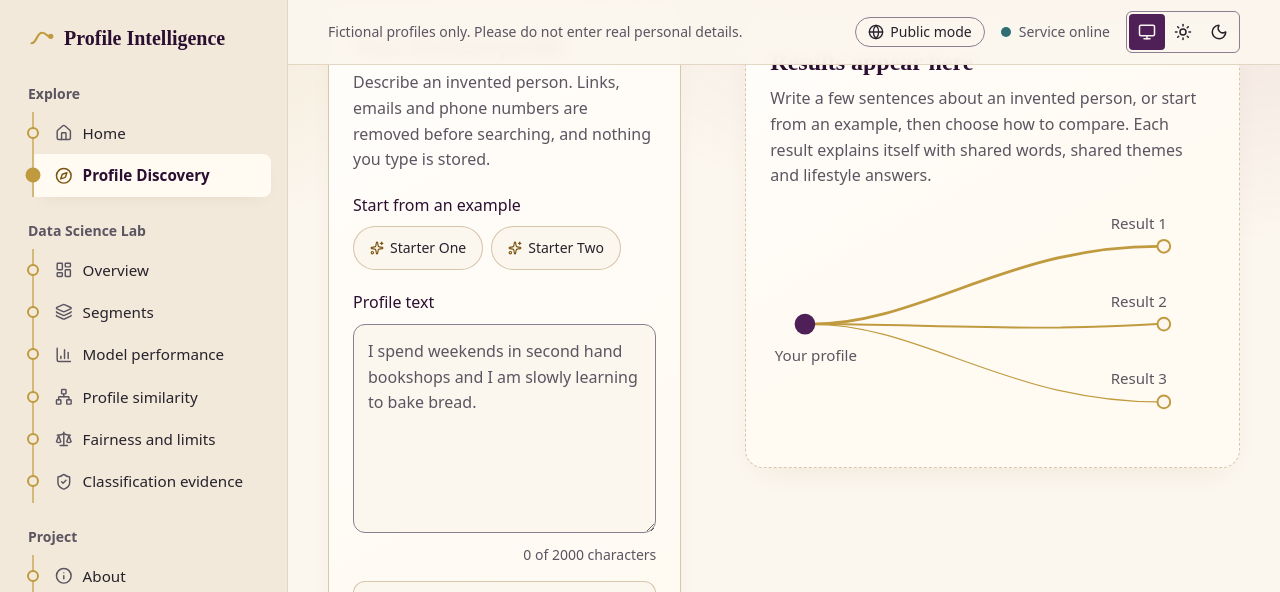
Discover page: searching › reports what was removed before searching
(page scrolled)
In the text box labelled "Profile text": (505, 428) [353, 324, 656, 533], type "I spend weekends in old bookshops and drink far too much tea."
(page scrolled)
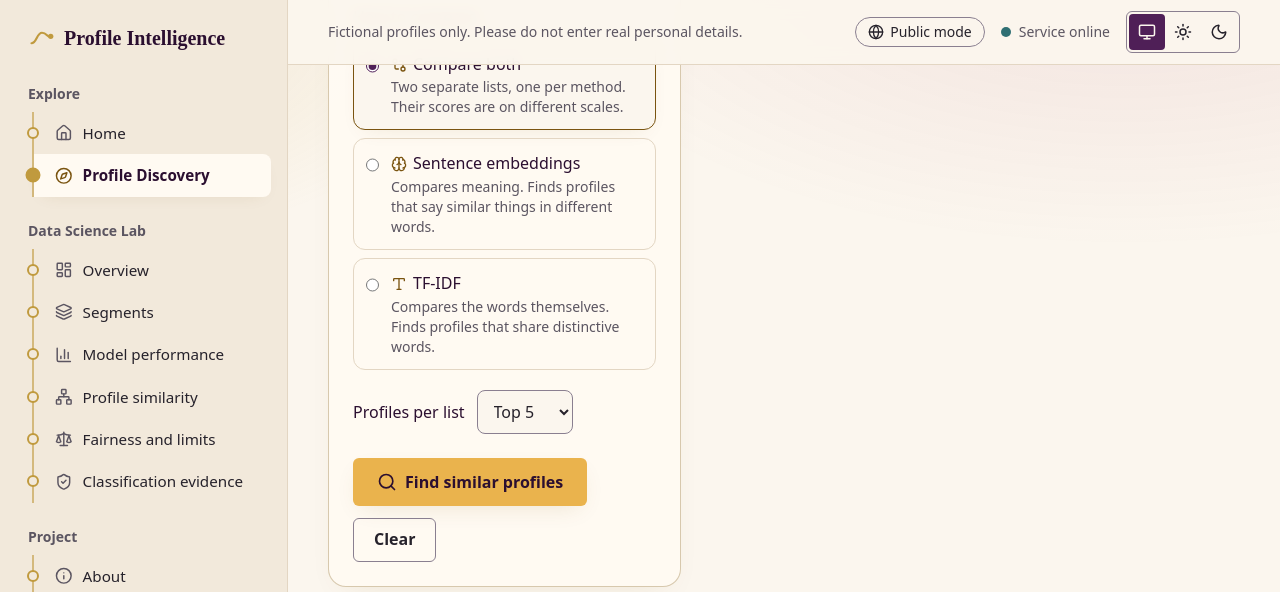
Click the button "Find similar profiles": click(470, 482) [353, 458, 587, 506]
(page scrolled)
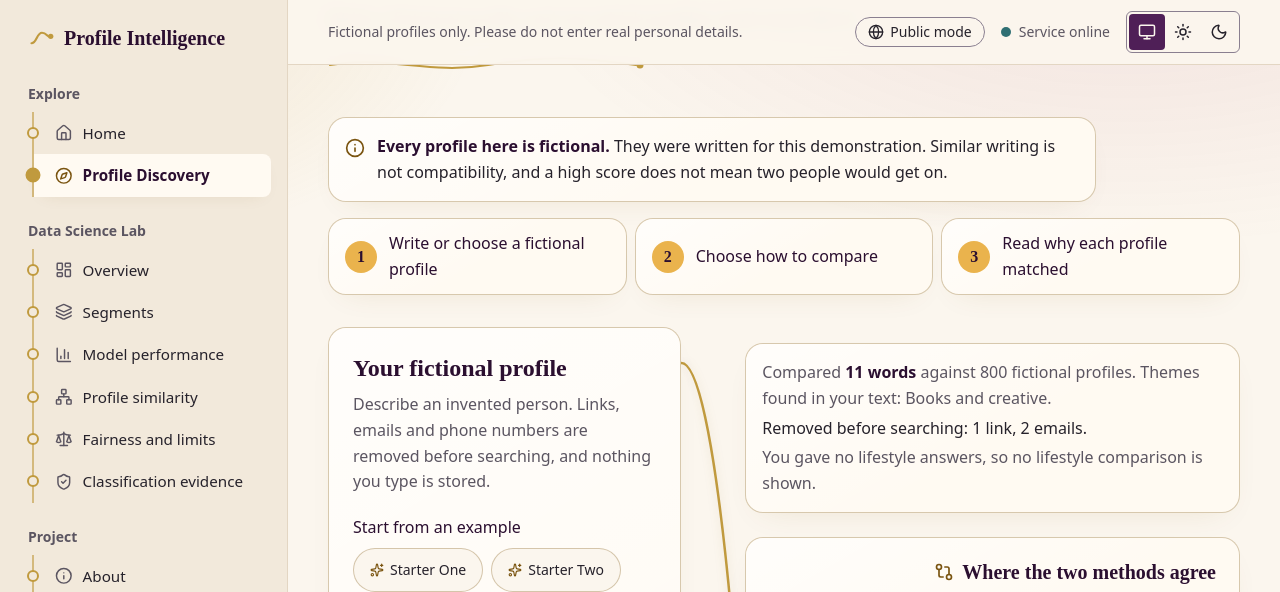
Result: the text "Removed before searching: 1 link, 2 emails." is shown at [762, 417, 1087, 439]
